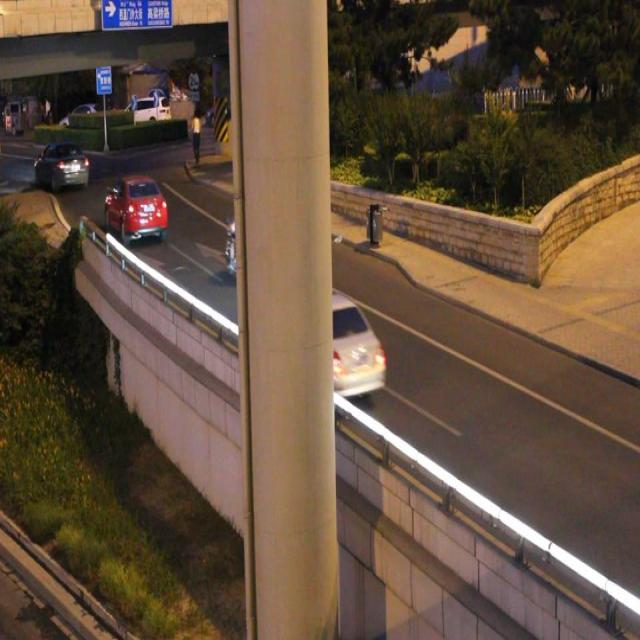car: (280, 295, 384, 402), (105, 177, 166, 238), (35, 144, 88, 188)
